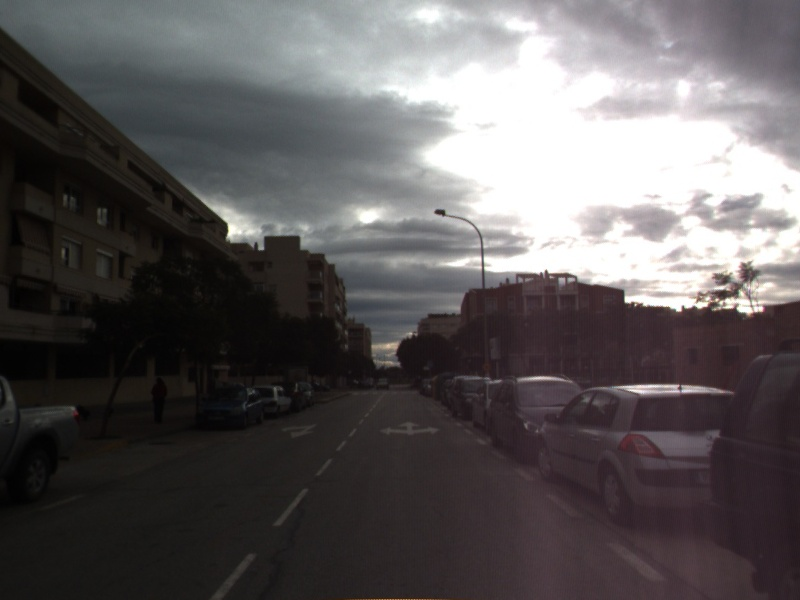STRAIGHT_LEFT_RIGHT: (377, 419, 442, 438)
